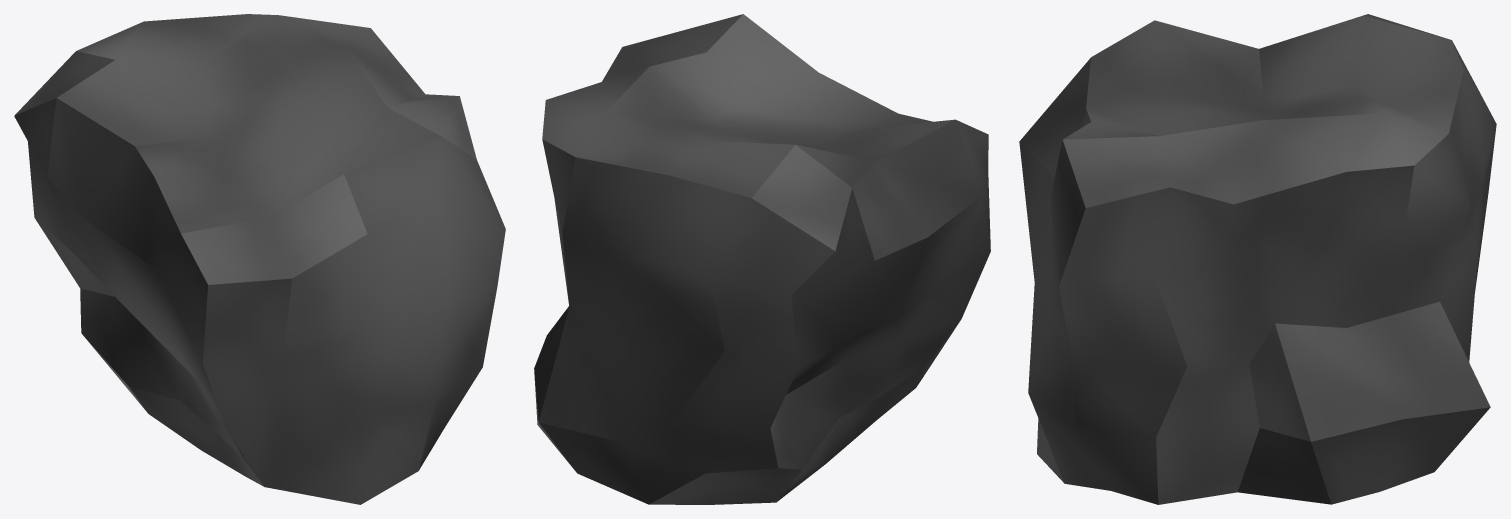
The model's file is GAMEJAMPUFFER - ForeGround Rock 2.fbx.
3 views of the same model, side by side, from view 1: azimuth 30°, elevation 25°; view 2: azimuth 150°, elevation 25°; view 3: azimuth 270°, elevation 25° (orthographic). The views are drawn at different scales.
Visible parts, largest first — view 1: Cube.003; view 2: Cube.003; view 3: Cube.003.
Boxes of the visible parts, x1,y1,x2,y2 form: Cube.003: (14,14,505,504); Cube.003: (534,14,990,504); Cube.003: (1019,14,1496,504).
Bounding box in the file's own units: 175 × 182 × 196.
1 material, 1 textured.
